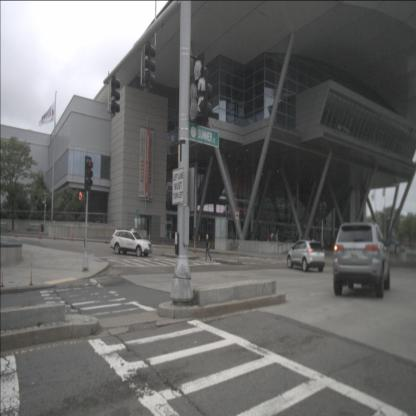human-pedestrian-adult: (206, 234, 212, 262), (270, 230, 274, 245), (266, 230, 270, 245)
movable_object-trafficcone: (29, 254, 34, 286), (0, 262, 4, 288), (38, 226, 42, 239), (105, 230, 108, 243), (71, 228, 74, 240), (194, 237, 196, 253), (54, 226, 56, 240), (15, 224, 17, 236)
vehicle-bicycle: (228, 238, 240, 250)
vehicle-car: (333, 222, 390, 298), (287, 239, 325, 272), (110, 228, 153, 257)
